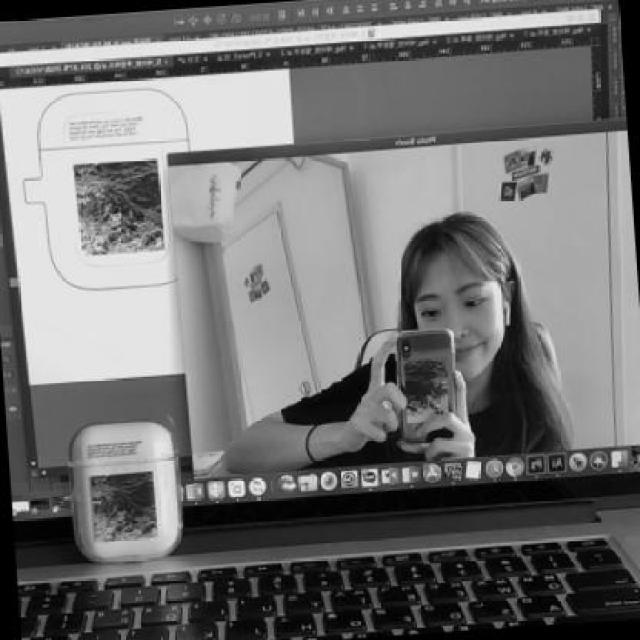earphone: (489, 296, 525, 338)
laptop_computer: (7, 1, 640, 640)
smart phone: (379, 318, 464, 446)
